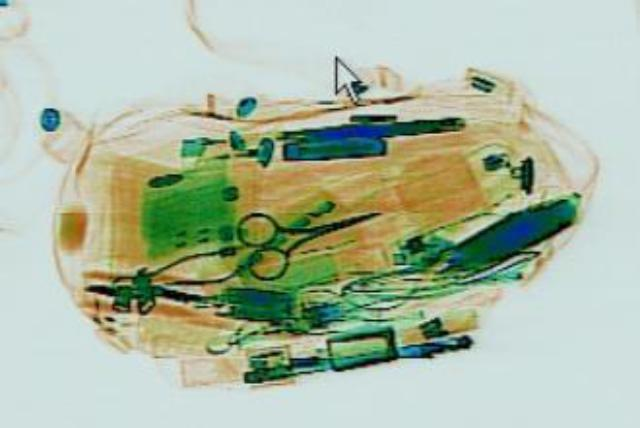Scissors: (212, 180, 402, 280)
